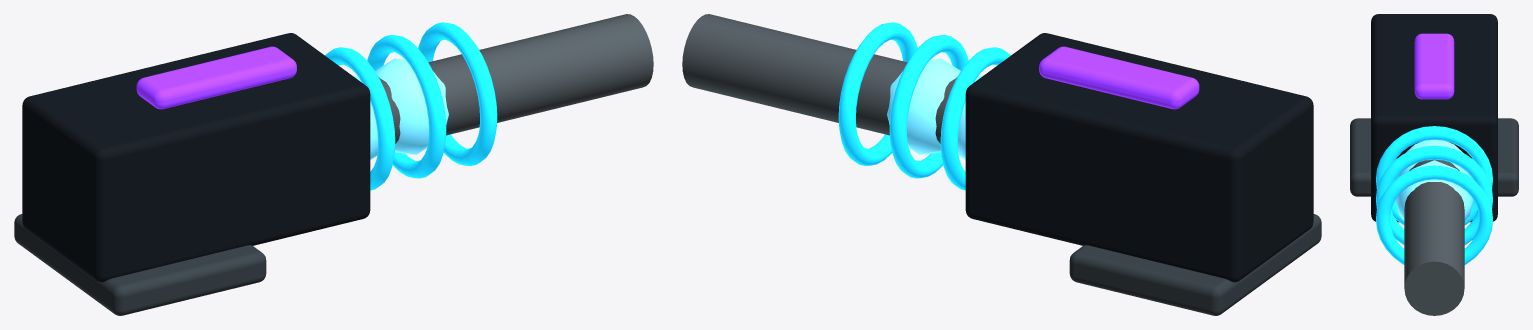
3 views of the same model, side by side, from view 1: azimuth 30°, elevation 25°; view 2: azimuth 150°, elevation 25°; view 3: azimuth 270°, elevation 25° (orthographic). The views are drawn at different scales.
Size of the model in its own units: 5.65 by 1.65 by 1.8.
